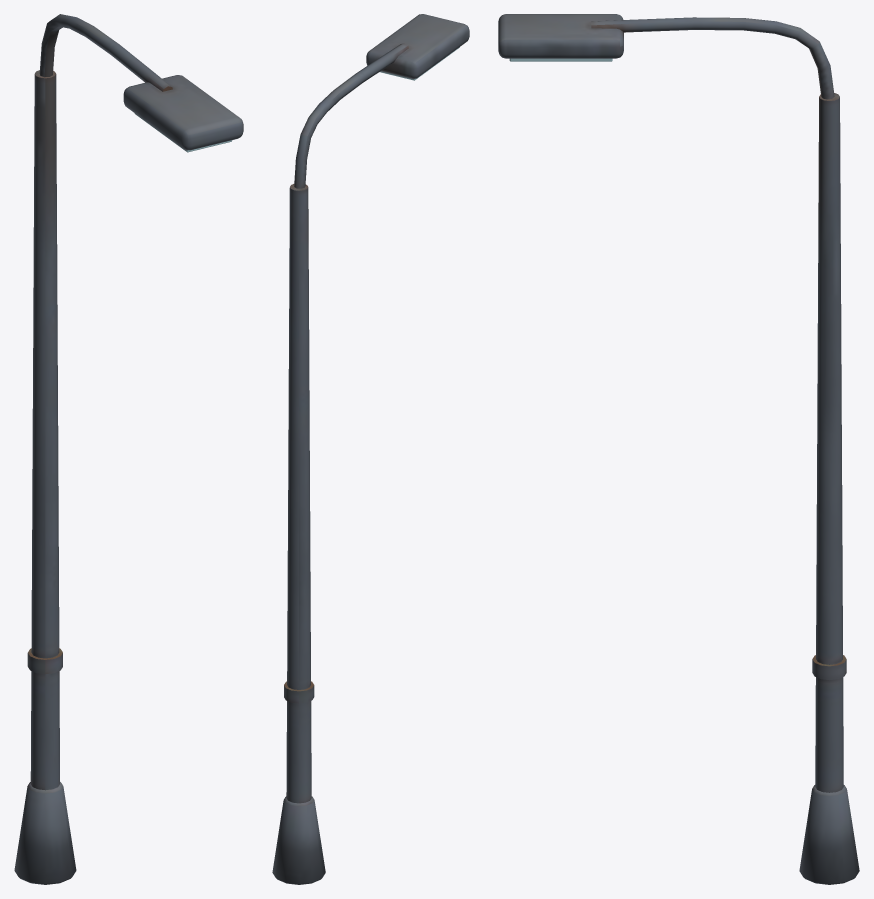
Rendered from street_lamp.glb.
The picture shows the model from 3 angles, left to right: view 1: azimuth 30°, elevation 25°; view 2: azimuth 150°, elevation 25°; view 3: azimuth 270°, elevation 25°; orthographic projection. The views are drawn at different scales.
Parts seen in each view (by area): view 1: street_lamp; view 2: street_lamp; view 3: street_lamp.
Boxes of the visible parts, x1,y1,x2,y2 form: street_lamp: [14, 14, 243, 884]; street_lamp: [272, 14, 469, 884]; street_lamp: [498, 14, 859, 884].
Bounding box in the file's own units: 0.36 × 4.96 × 1.9.
Materials: 2 (1 with a texture image).
